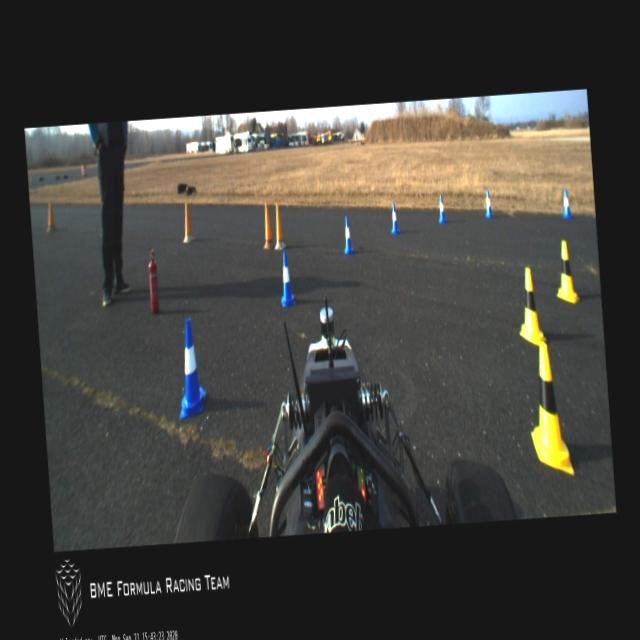blue_cone: (172, 312, 208, 420), (276, 249, 296, 308), (342, 214, 354, 256), (388, 200, 400, 235), (560, 188, 572, 220), (436, 193, 447, 225), (482, 188, 493, 220)
unknown_cone: (259, 199, 273, 251), (272, 202, 286, 250), (180, 201, 193, 243), (44, 198, 55, 230)
yellow_cone: (523, 338, 575, 479), (514, 264, 547, 349), (552, 237, 580, 306)
